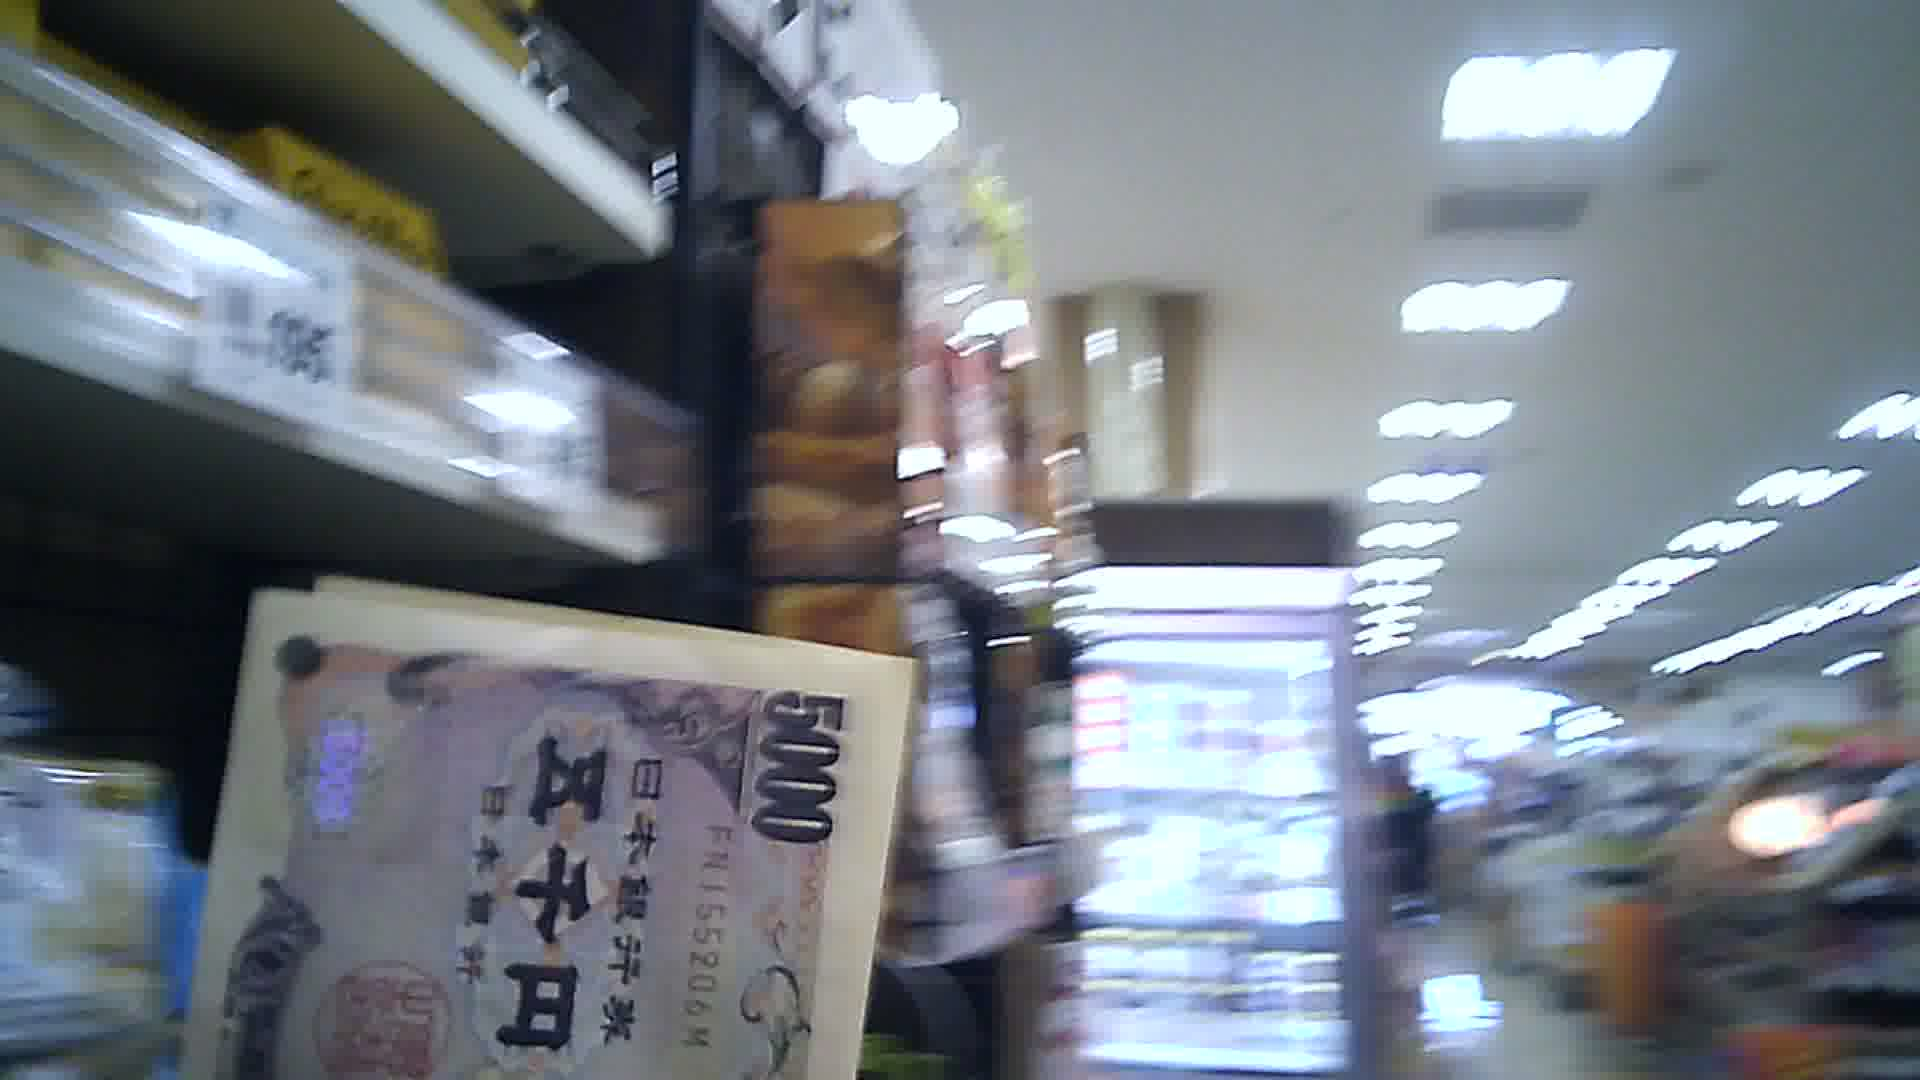5,000 Yen: (182, 562, 885, 1069)
